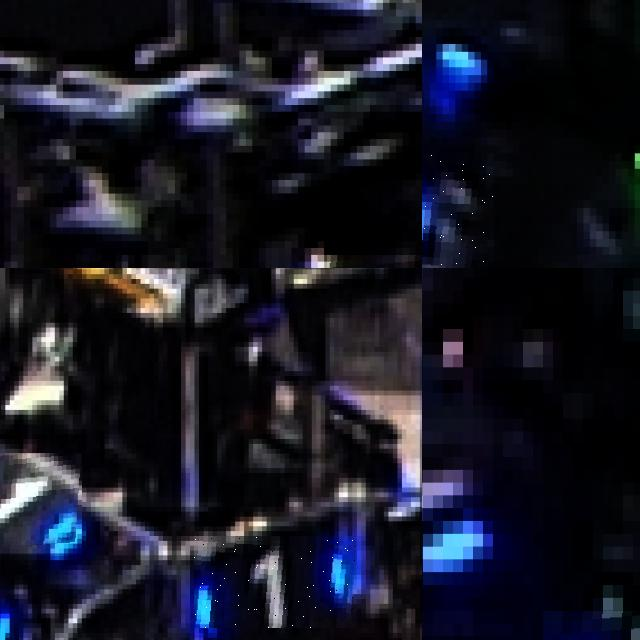B1: (194, 536, 357, 628), (0, 453, 82, 555)
B5: (422, 153, 494, 268)
